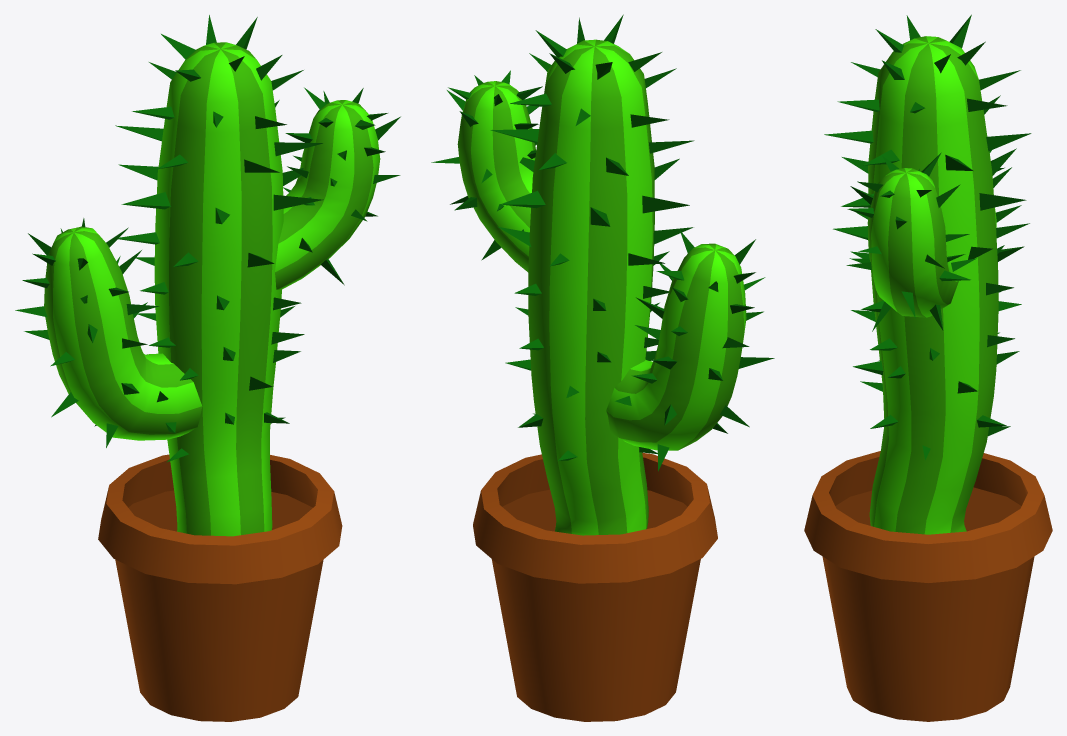
File: Cactus2.fbx
3 renders of one model, left to right at view 1: azimuth 30°, elevation 25°; view 2: azimuth 150°, elevation 25°; view 3: azimuth 270°, elevation 25°, orthographic.
Visible parts, largest first — view 1: Cactus.002, Cactus; view 2: Cactus.002, Cactus; view 3: Cactus.002, Cactus.
Part boxes in pixels (x1,y1,x2,y2): Cactus.002: (15,15,400,536); Cactus: (98,454,342,721); Cactus.002: (431,14,774,535); Cactus: (473,452,717,721); Cactus.002: (824,14,1031,534); Cactus: (804,451,1052,721).
Bounding box in the file's own units: 176 × 319 × 109.
